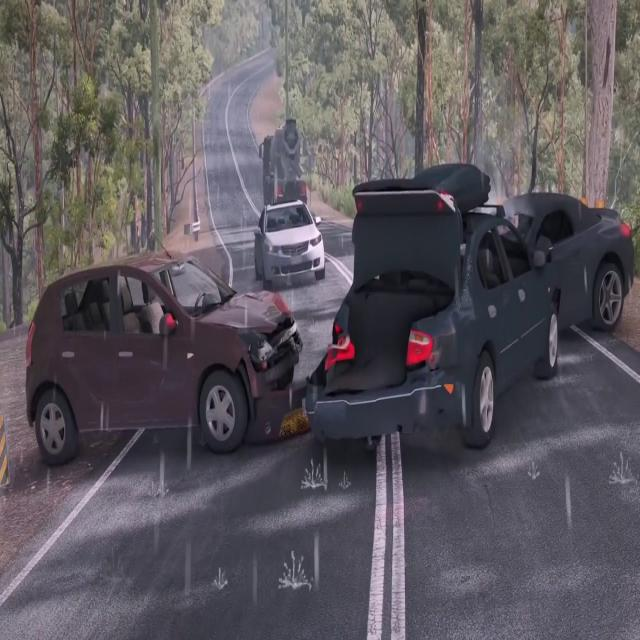accident: (301, 170, 640, 459)
